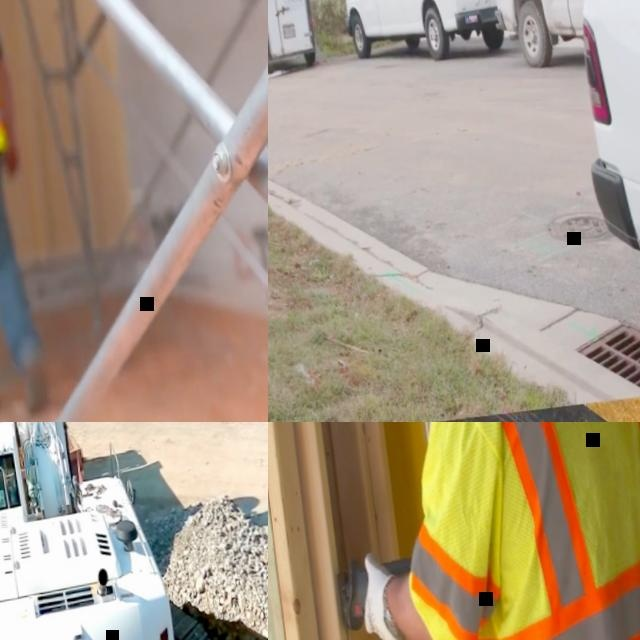Person: (302, 422, 640, 640), (0, 0, 53, 421)
Safety Vest: (372, 422, 640, 640)
machinery: (0, 422, 185, 640)
vehicle: (563, 0, 640, 397), (330, 0, 517, 73), (482, 0, 640, 72)
